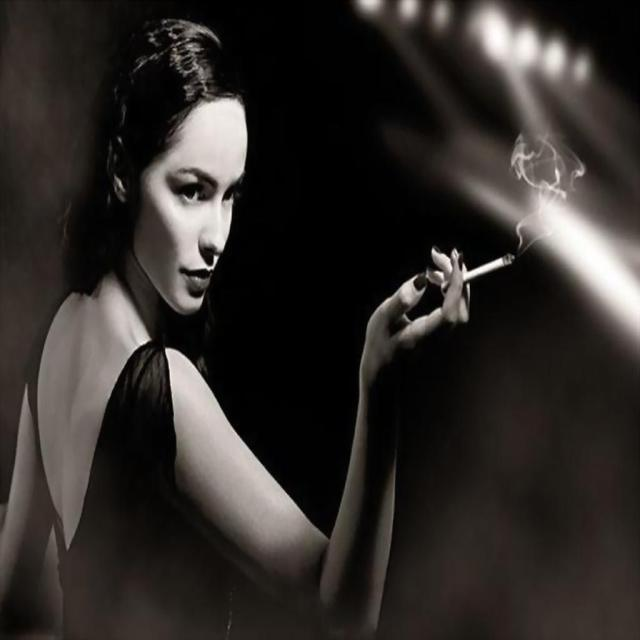smoking: (22, 10, 534, 629)
